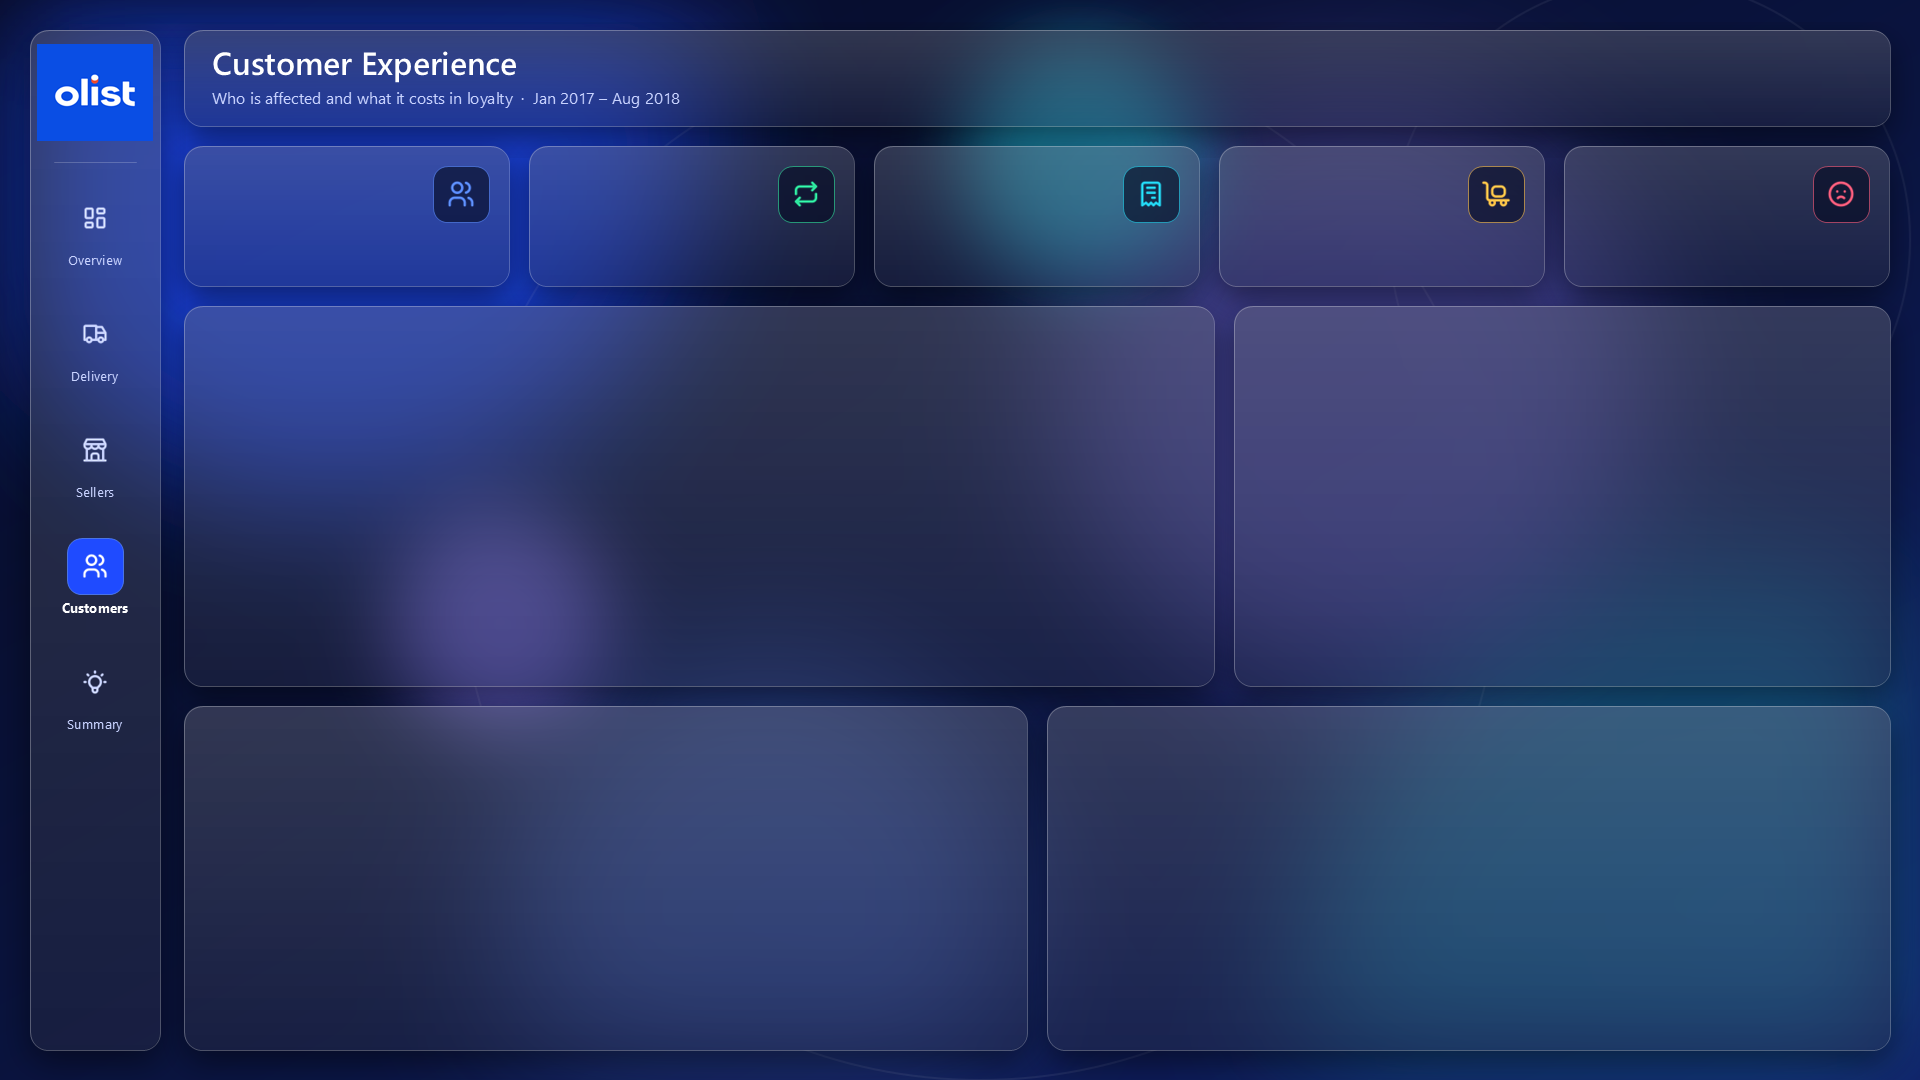

The page's visual inventory and layout, read from the dashboard file:
{"tool":"powerbi","page":{"name":"Customers","canvas":[1920,1080],"ordinal":4},"visuals":[{"type":"cardVisual","fields":{"Data":["_Measures.Unique Customers Label"]},"box":[181.4,114.5,252.7,153.4],"z":0},{"type":"slicer","fields":{"Values":["Calendar.Year-Month"]},"box":[1563.1,39.3,313.8,80.5],"z":1000},{"type":"slicer","fields":{"Values":["Customers.customer_state"]},"box":[1140.5,38.9,315.4,79.9],"z":2000},{"type":"cardVisual","fields":{"Data":["_Measures.1-Star Review %"]},"box":[1559.5,116.6,248.4,153.4],"z":3000},{"type":"cardVisual","fields":{"Data":["_Measures.Avg Freight per Order"]},"box":[1220.4,149,235.4,153.4],"z":4000},{"type":"cardVisual","fields":{"Data":["_Measures.Avg Order Value"]},"box":[872.6,116.6,244.1,153.4],"z":5000},{"type":"cardVisual","fields":{"Data":["_Measures.Repeat Customer %"]},"box":[532.1,147.3,243.5,153.2],"z":6000},{"type":"actionButton","box":[51.8,302.4,82.1,82.1],"z":7000},{"type":"actionButton","box":[51.8,185.8,82.1,82.1],"z":8000},{"type":"actionButton","box":[51.8,423.4,82.1,82.1],"z":9000},{"type":"lineClusteredColumnComboChart","title":"North and Northeast pay the most freight","fields":{"Category":["Customers.customer_state"],"Y":["_Measures.Freight % of Price"],"Y2":["_Measures.Late Delivery %"]},"box":[181.4,302.4,1039,380.2],"z":9001},{"type":"clusteredBarChart","title":"A late first order means fewer repeat customers","fields":{"Category":["Orders.Delivery Status"],"Y":["_Measures.Repeat Rate (First Orders)"]},"box":[1235.5,302.4,658.8,380.2],"z":9002},{"type":"lineClusteredColumnComboChart","title":"Small orders pay nearly 50% in freight","fields":{"Category":["Orders.Basket Bucket"],"Y":["_Measures.Freight % of Price"],"Y2":["_Measures.1-Star Review %"]},"box":[181.4,702,842.4,343.4],"z":9004},{"type":"lineClusteredColumnComboChart","title":"Salvador and Rio suffer most among big cities","fields":{"Category":["Customers.customer_city"],"Y":["_Measures.Unique Customers"],"Y2":["_Measures.Late Delivery %"]},"box":[1049.8,702,844.6,343.4],"z":9005},{"type":"actionButton","box":[51.8,650.2,82.1,84.2],"z":9006}]}

Visuals, with their boxes on the page's 1920x1080 design canvas (x1, y1, x2, y2). These are canvas units, not pixel positions in the 1920x1080 screenshot, which may show the page scaled, cropped or inside an application window:
cardVisual - _Measures.Unique Customers Label: [181,114,434,268]
slicer - Calendar.Year-Month: [1563,39,1877,120]
slicer - Customers.customer_state: [1140,39,1456,119]
cardVisual - _Measures.1-Star Review %: [1560,117,1808,270]
cardVisual - _Measures.Avg Freight per Order: [1220,149,1456,302]
cardVisual - _Measures.Avg Order Value: [873,117,1117,270]
cardVisual - _Measures.Repeat Customer %: [532,147,776,300]
actionButton: [52,302,134,384]
actionButton: [52,186,134,268]
actionButton: [52,423,134,506]
"North and Northeast pay the most freight" lineClusteredColumnComboChart: [181,302,1220,683]
"A late first order means fewer repeat customers" clusteredBarChart: [1236,302,1894,683]
"Small orders pay nearly 50% in freight" lineClusteredColumnComboChart: [181,702,1024,1045]
"Salvador and Rio suffer most among big cities" lineClusteredColumnComboChart: [1050,702,1894,1045]
actionButton: [52,650,134,734]
